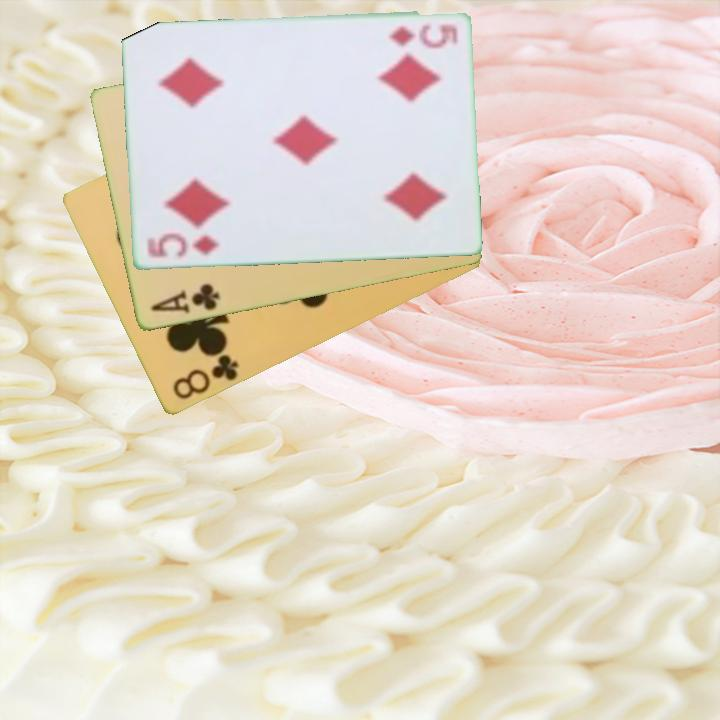5d: (142, 231, 222, 261), (385, 21, 461, 49)
8c: (169, 351, 241, 403)
Ac: (146, 280, 223, 317)
